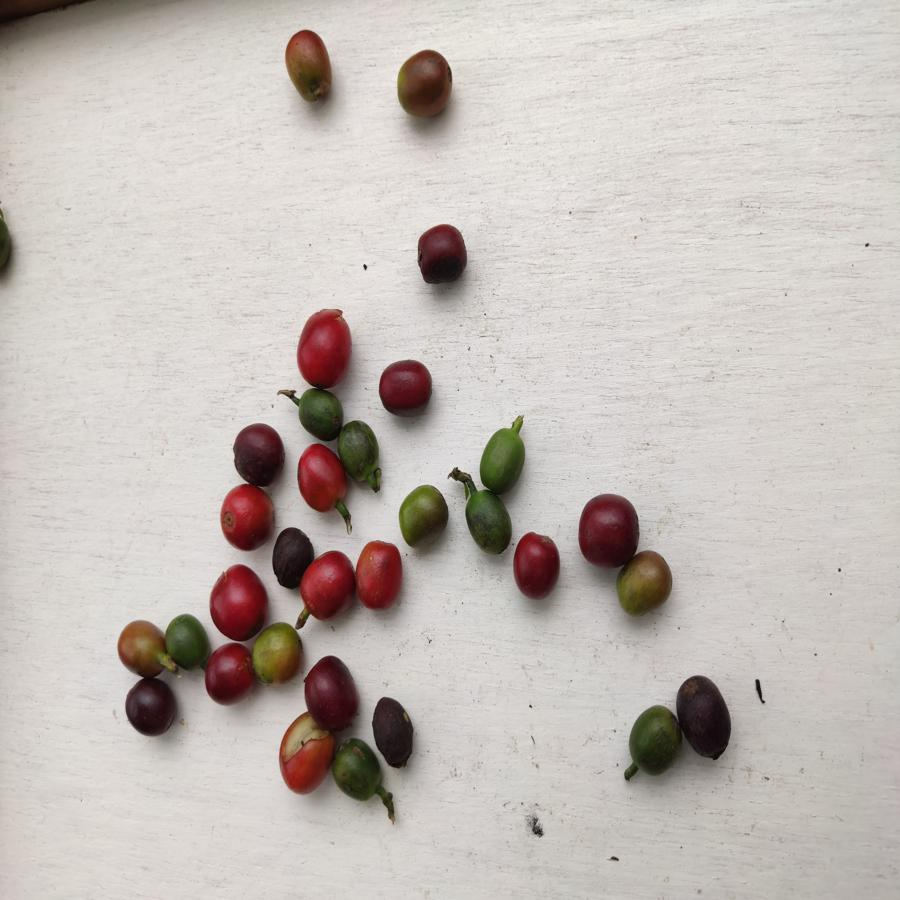Inmaduro: (628, 700, 685, 778), (474, 423, 533, 492), (331, 738, 385, 801), (463, 490, 511, 553), (292, 388, 345, 445), (164, 612, 208, 672), (342, 419, 381, 481)
Maduro: (293, 302, 352, 391), (279, 721, 335, 795), (213, 560, 263, 641), (298, 441, 348, 513), (221, 485, 273, 553), (305, 549, 353, 622), (357, 538, 404, 612)
Pinton: (280, 25, 340, 106), (610, 553, 678, 617), (395, 48, 453, 120), (393, 484, 449, 547), (252, 618, 302, 688), (116, 615, 168, 677)
Sobremaduro: (674, 669, 736, 763), (578, 492, 641, 567), (304, 650, 363, 729), (120, 680, 179, 740), (378, 355, 433, 419), (513, 530, 561, 603), (413, 224, 468, 285), (235, 420, 285, 485), (205, 643, 252, 707), (373, 696, 415, 766), (273, 525, 302, 593)
